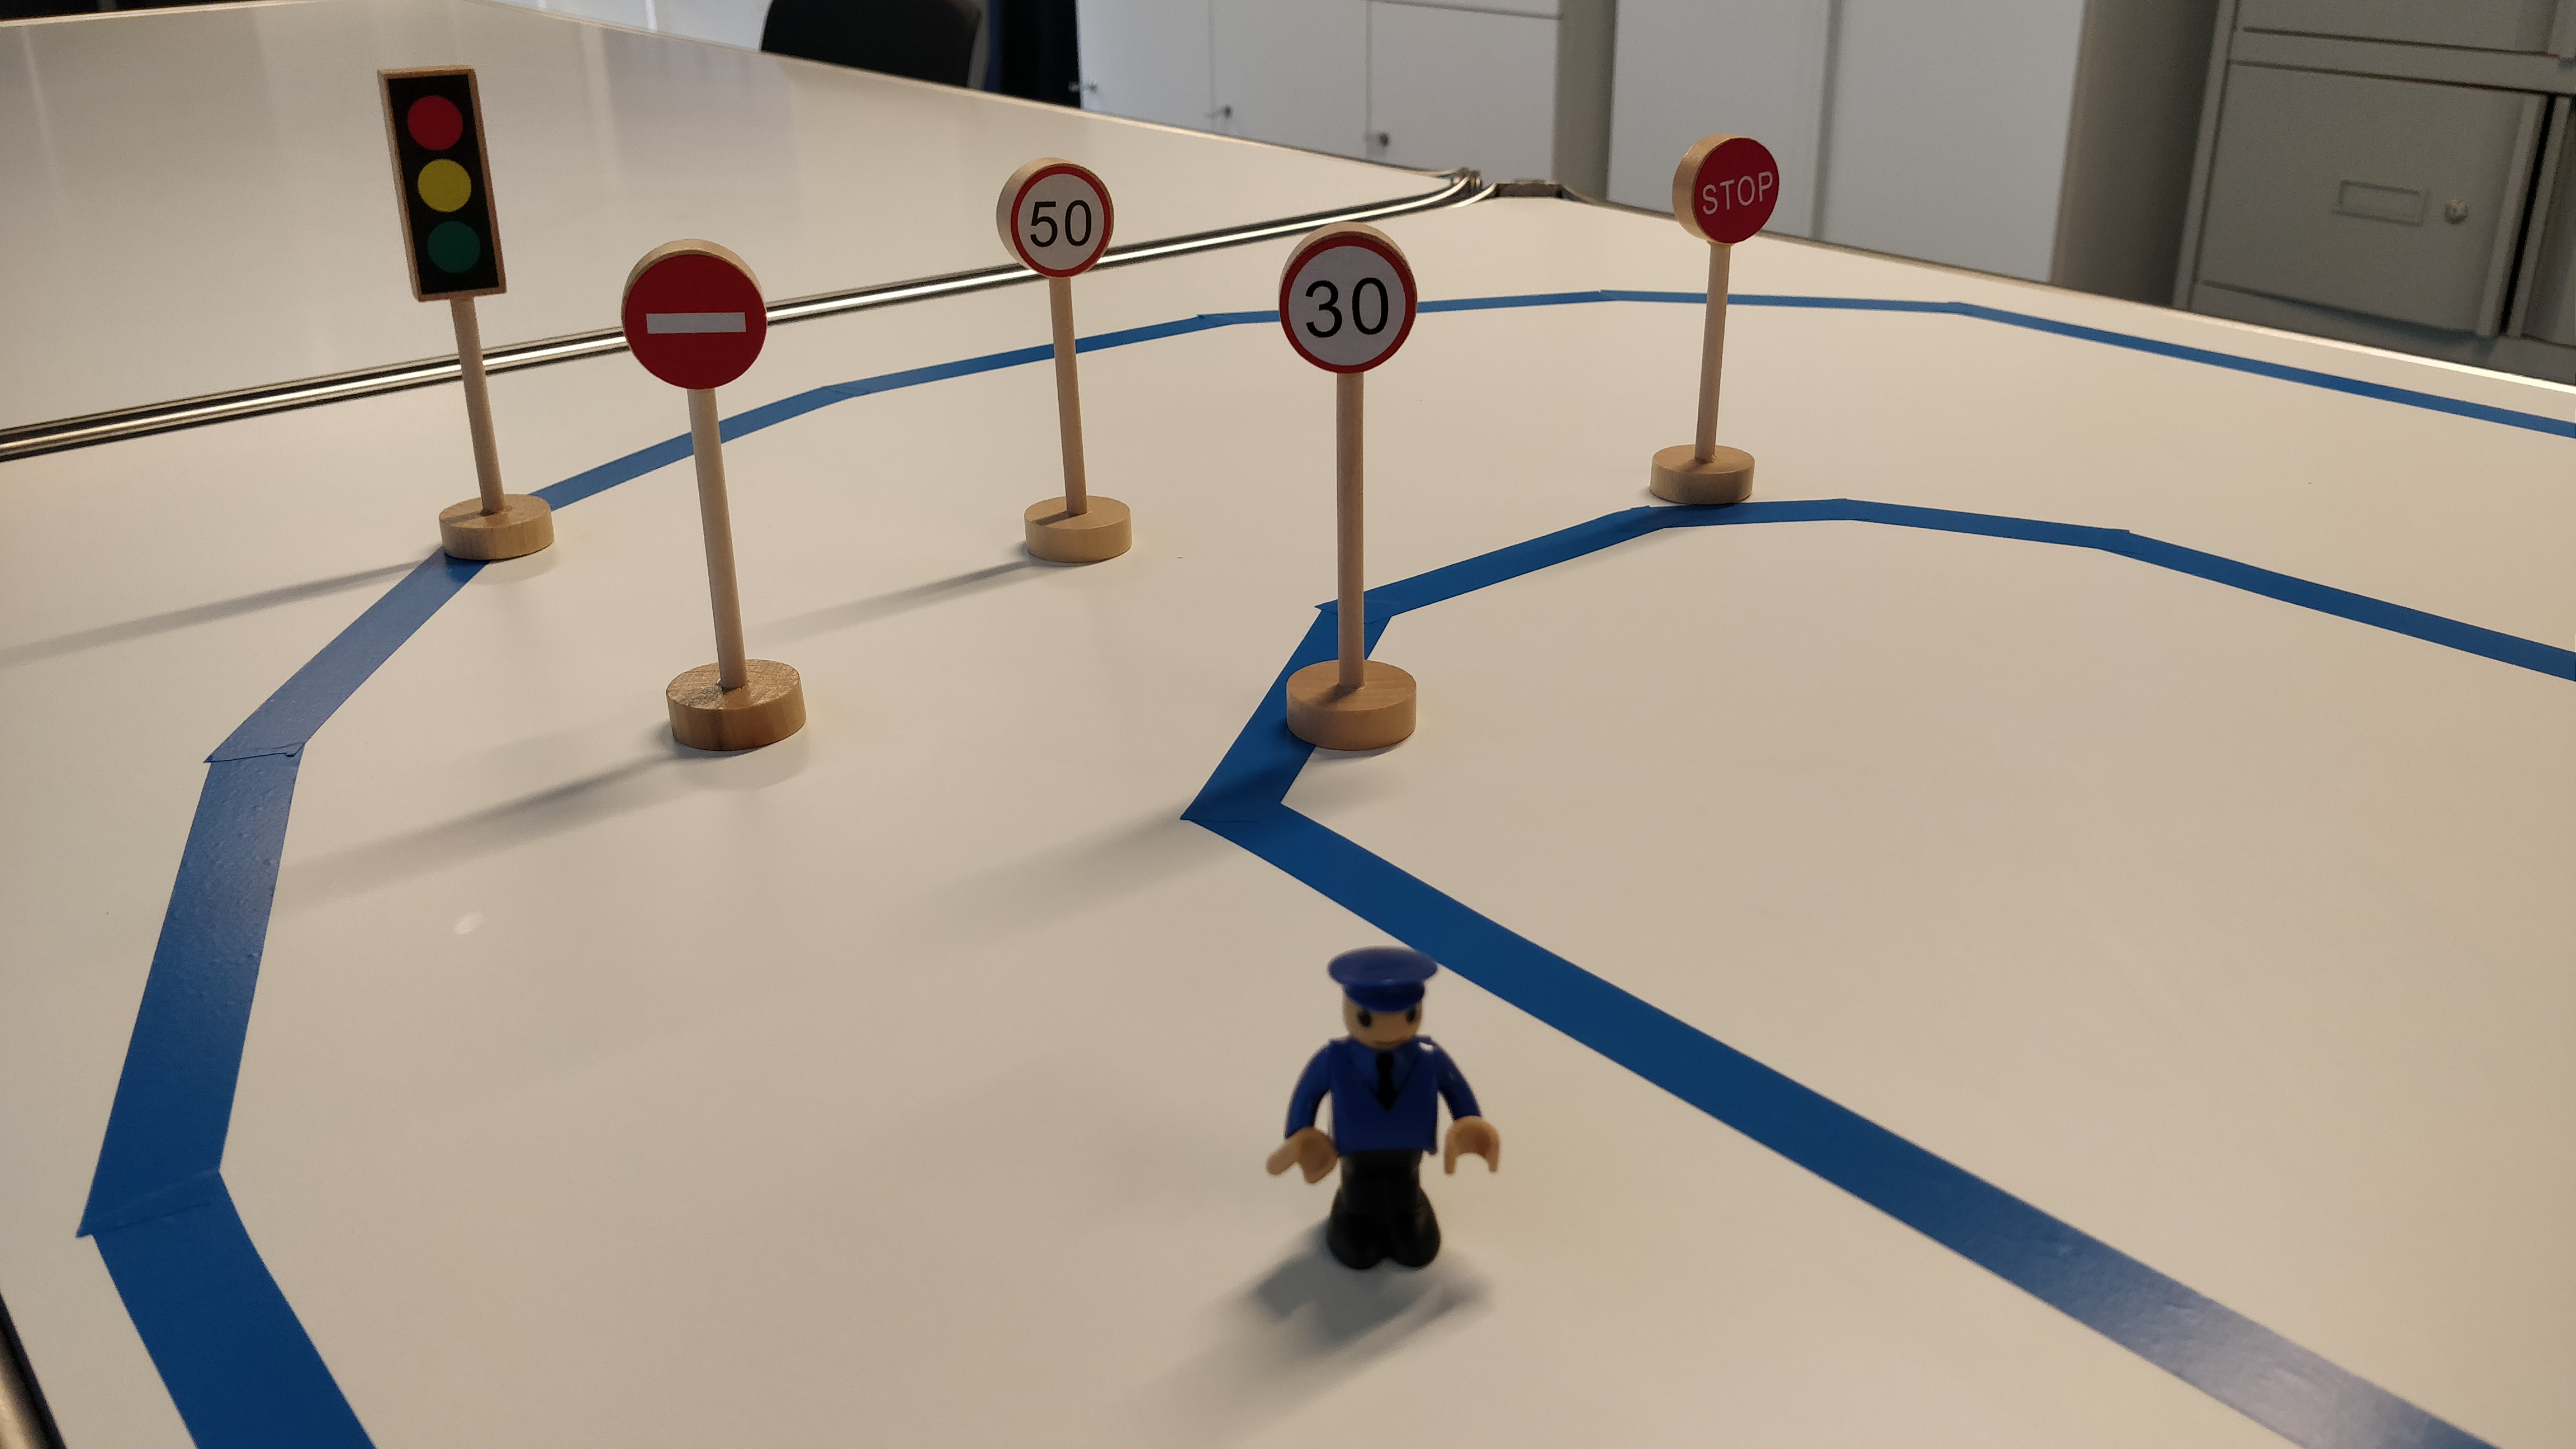Person: (1257, 943, 1512, 1275)
Prohibition Sign: (616, 239, 772, 391)
Speed Limit 30: (1280, 222, 1420, 377)
Speed Limit 50: (988, 153, 1124, 288)
Stop Sign: (1671, 131, 1781, 247)
Traffic Light: (375, 63, 515, 303)
